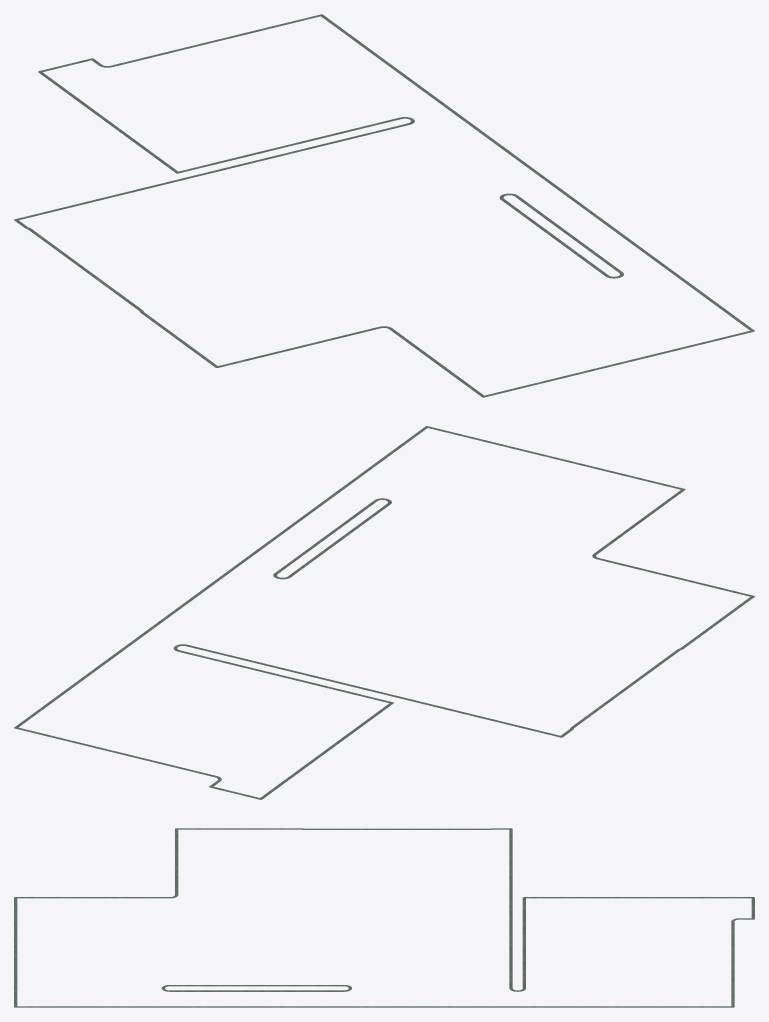
The model's file is SM_QD_GroundDetail_ChurchSquare.fbx.
3 renders of one model, top to bottom at view 1: azimuth 30°, elevation 25°; view 2: azimuth 150°, elevation 25°; view 3: azimuth 270°, elevation 25°, orthographic. The views are drawn at different scales.
Visible parts, largest first — view 1: SM_QD_GroundDetail_ChurchSquare; view 2: SM_QD_GroundDetail_ChurchSquare; view 3: SM_QD_GroundDetail_ChurchSquare.
Part boxes in pixels (<box>): SM_QD_GroundDetail_ChurchSquare: <box>14,14,754,397</box>; SM_QD_GroundDetail_ChurchSquare: <box>14,426,754,799</box>; SM_QD_GroundDetail_ChurchSquare: <box>14,828,754,1007</box>.
Size of the model in its own units: 24.34 by 42.48 by 0.
1 material, 1 textured.
